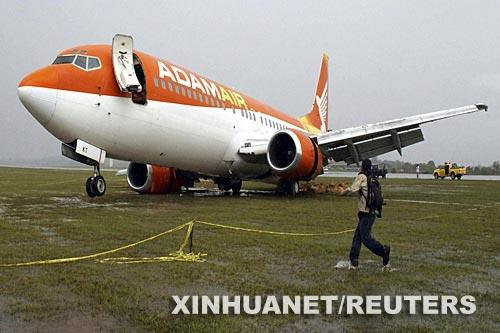airplane: (17, 33, 500, 198)
